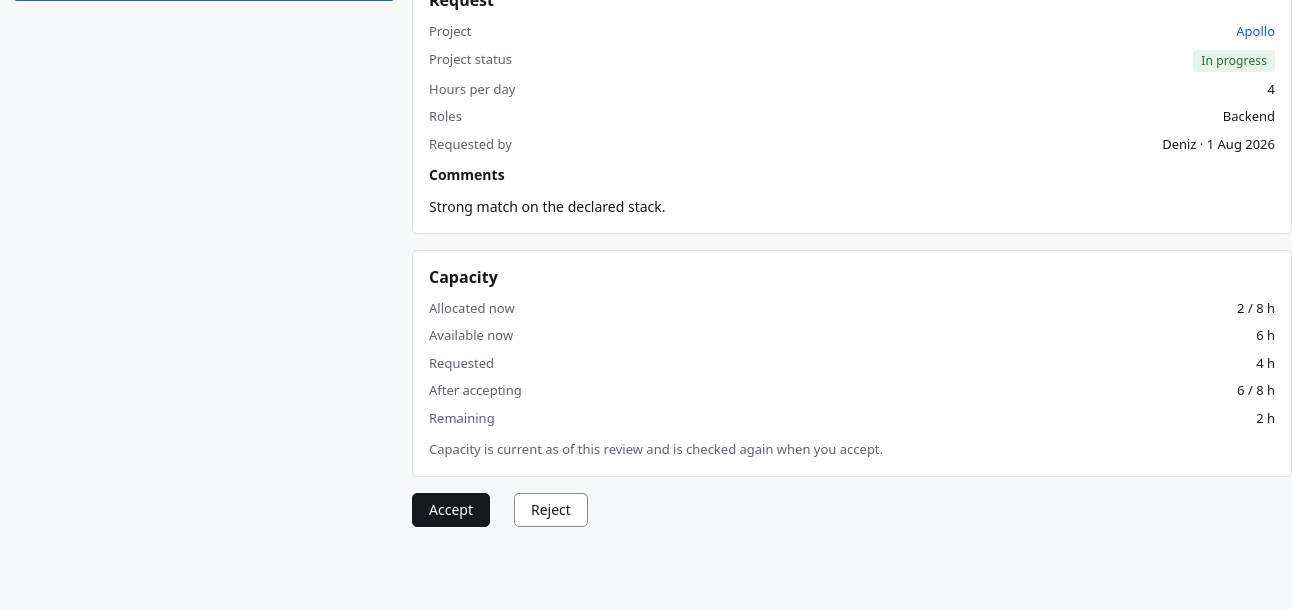
decisions › keeps the request reviewable after a capacity race
What coordinates should you click on to do the following:
click the button "Accept"
I would click on:
 (451, 510)
Its box is [412,492,490,526].
(page scrolled)
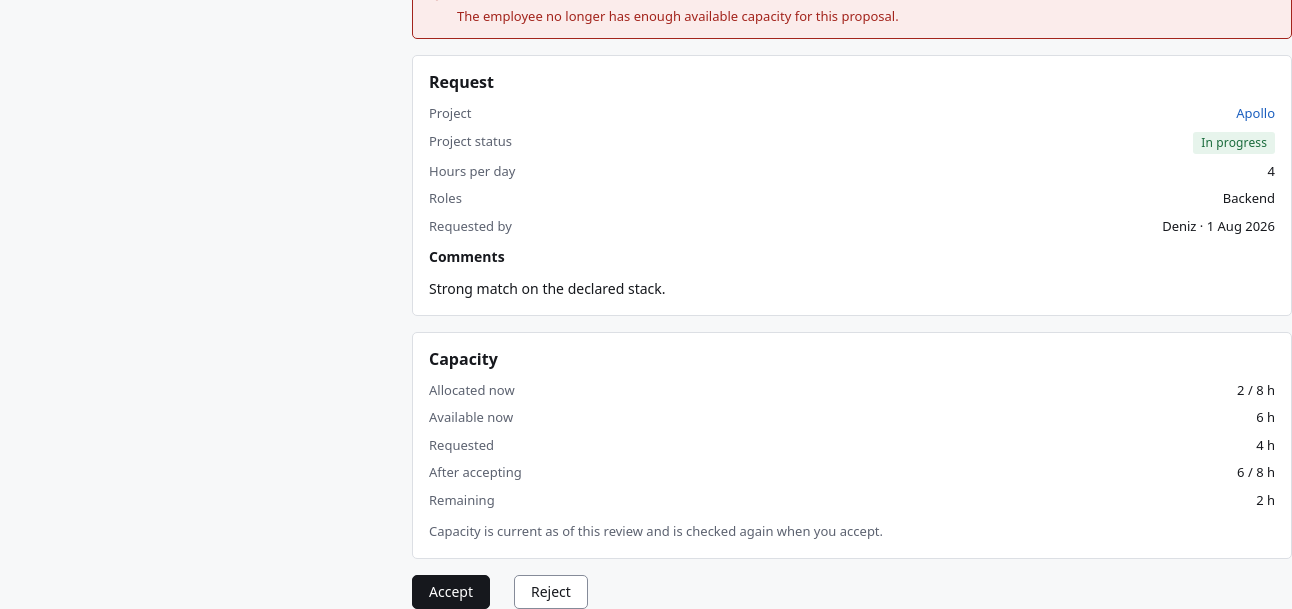
Expected: the button "Reject" is enabled, [514,574,588,608]
Now the text "no longer has enough available capacity" is shown, box [457,6,899,24]
